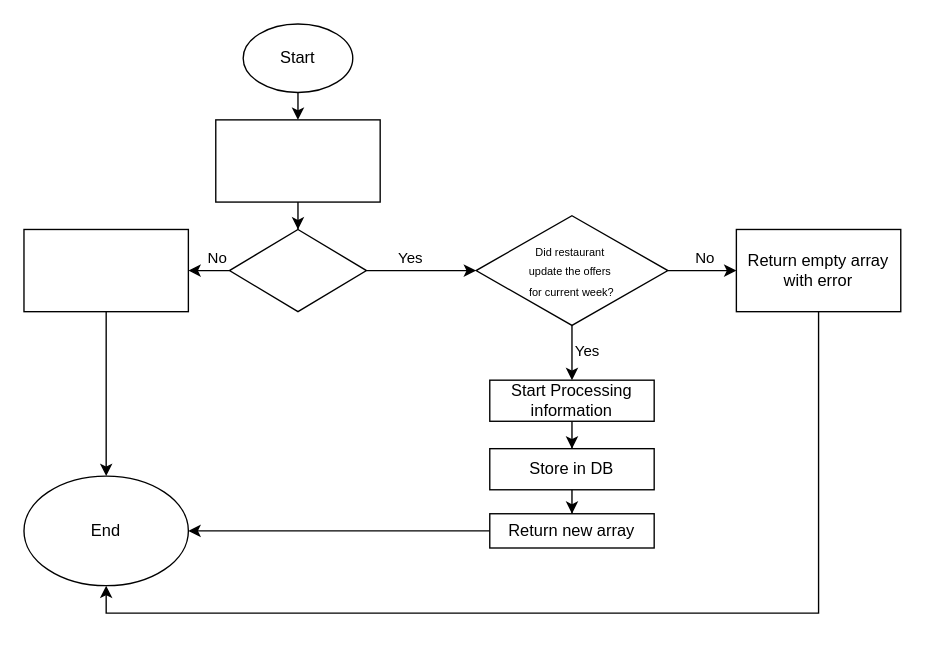
The diagram is 925 pixels wide and 648 high, and some of its shapes have lost their labels. Here are the shapes that lost their labels. From the top down, the centre of each, then its label:
pixel 297 160: Query available offers for current week for restaurant
pixel 105 270: Return available array
pixel 297 270: Is array empty?
